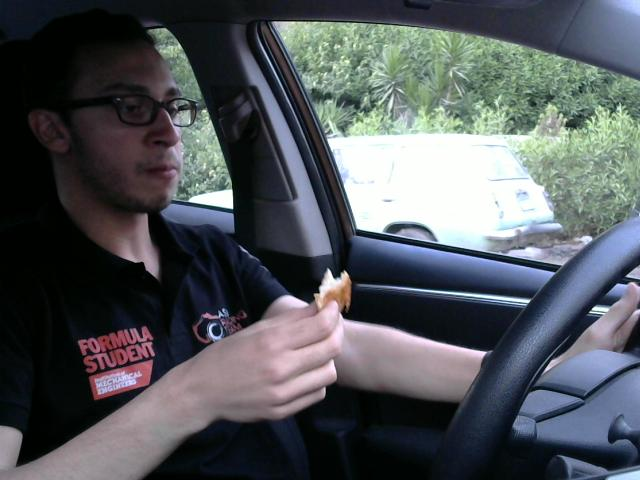Eating: (300, 268, 361, 316)
